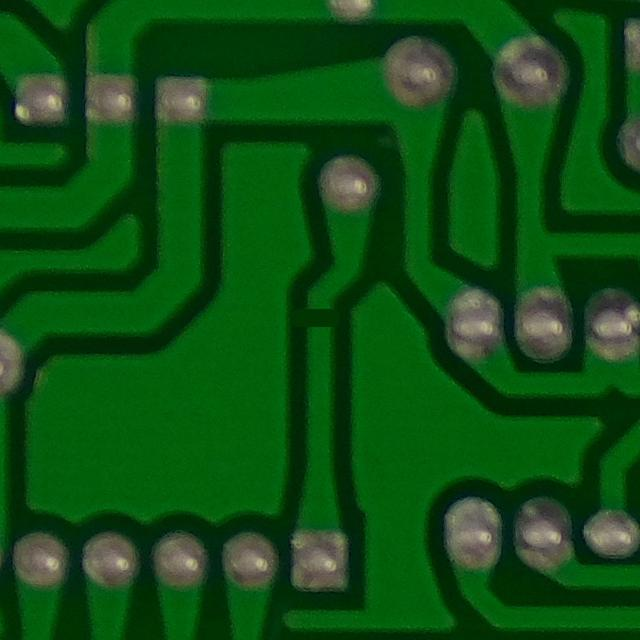open_circuit: (298, 294, 343, 347)
